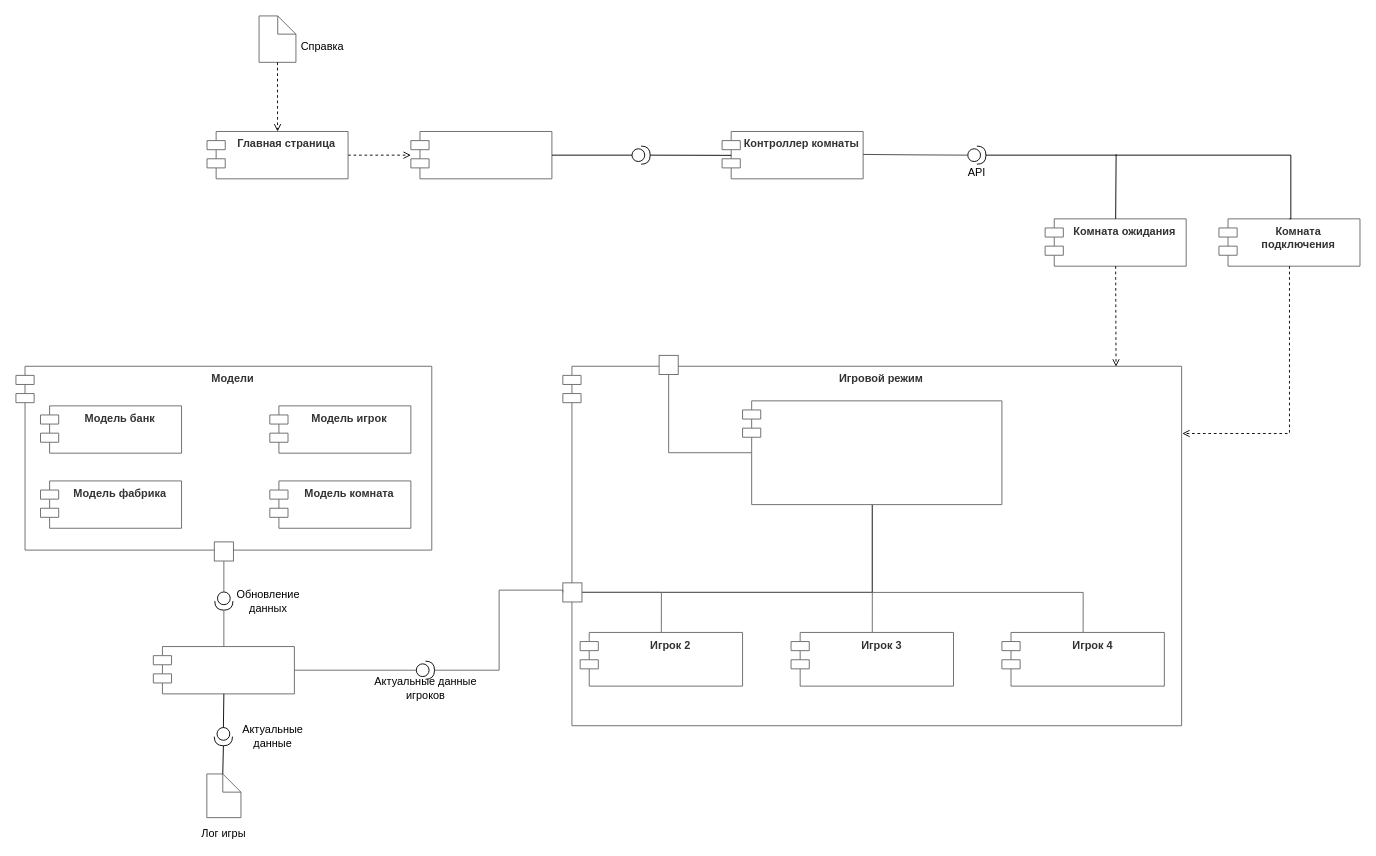
The diagram is 1376 pixels wide and 856 high, and some of its shapes have lost their labels. Each missing label, with the centre of its shape:
Главный игрок: point (872, 452)
Данные игрока: point (640, 154)
Контроллер игроков: point (223, 670)
Регистрация: point (481, 155)
